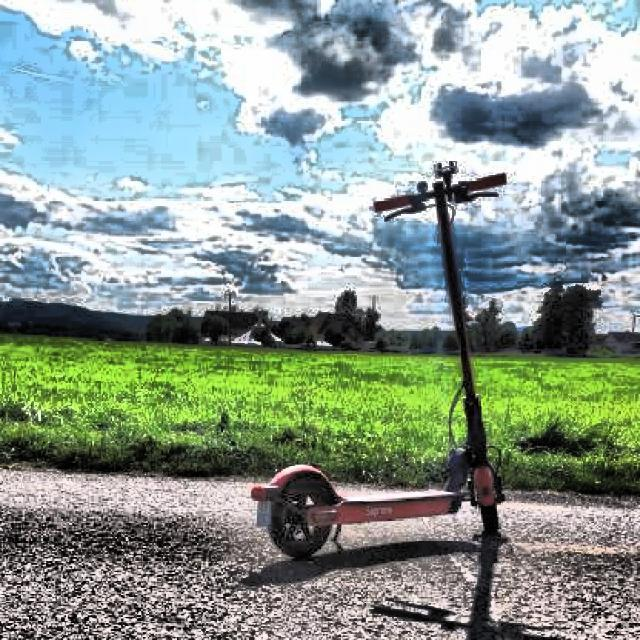bike: (250, 159, 508, 561)
